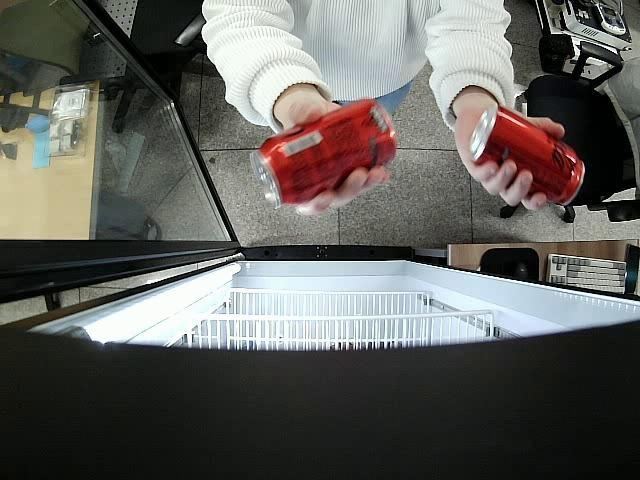11_cocaColaZero: (250, 101, 397, 210), (470, 104, 585, 208)
